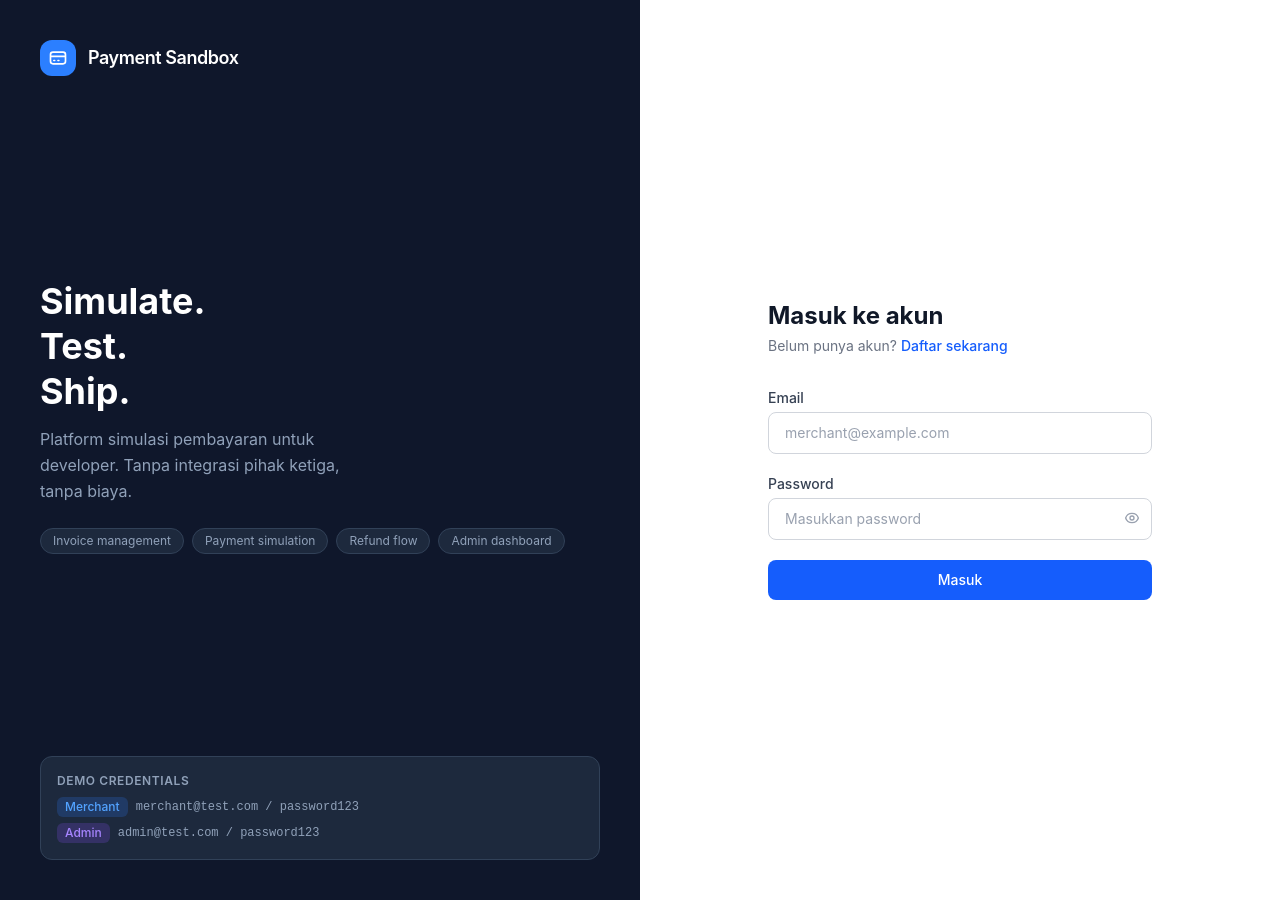
Test: LoginPage › shows password length error for short password
The image size is (1280, 900).
Type "123" into the password field labelled "Password".
click(960, 519); type("123")  # box [768,498,1152,540]
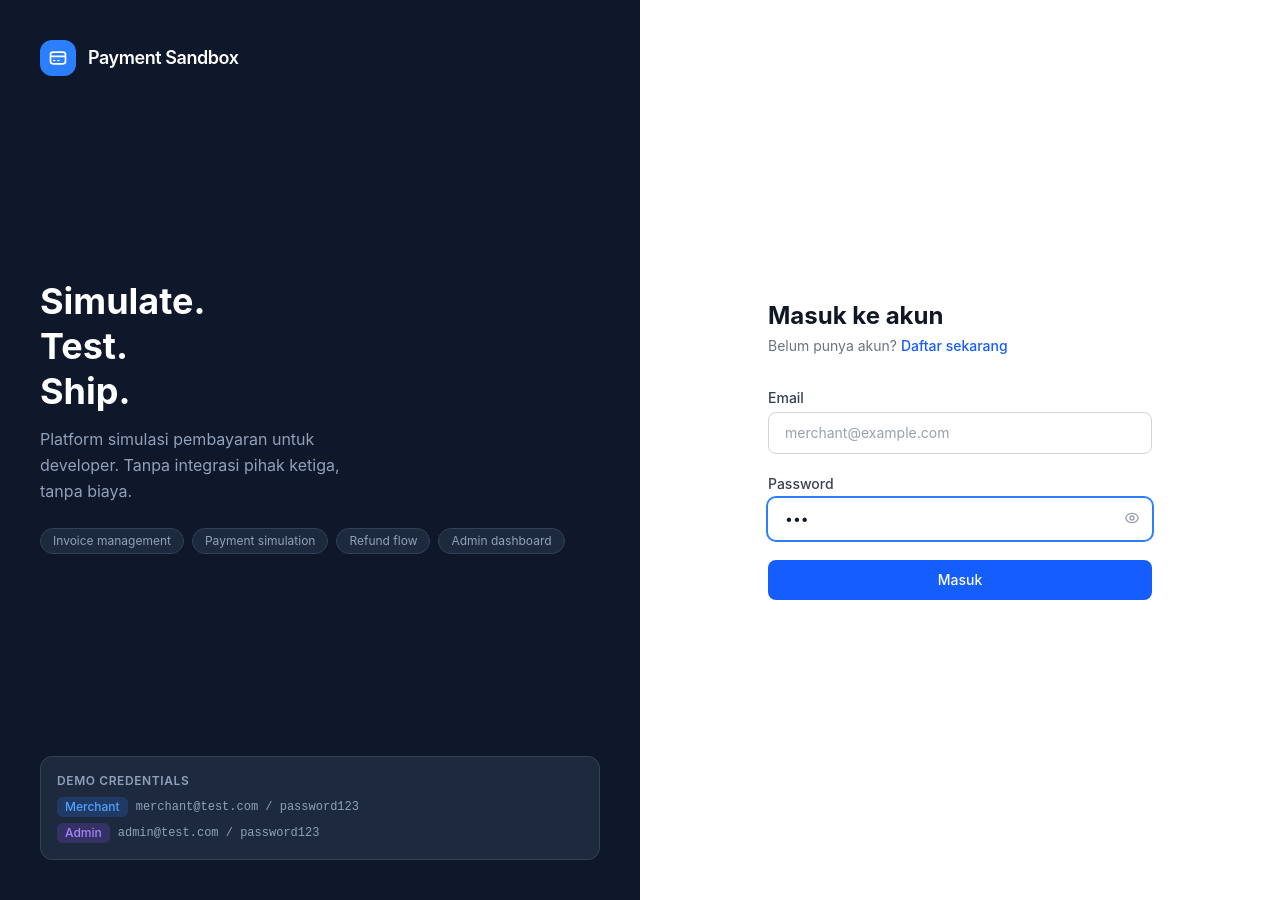
Click the button "Masuk".
click(960, 580)  # box [768,560,1152,600]
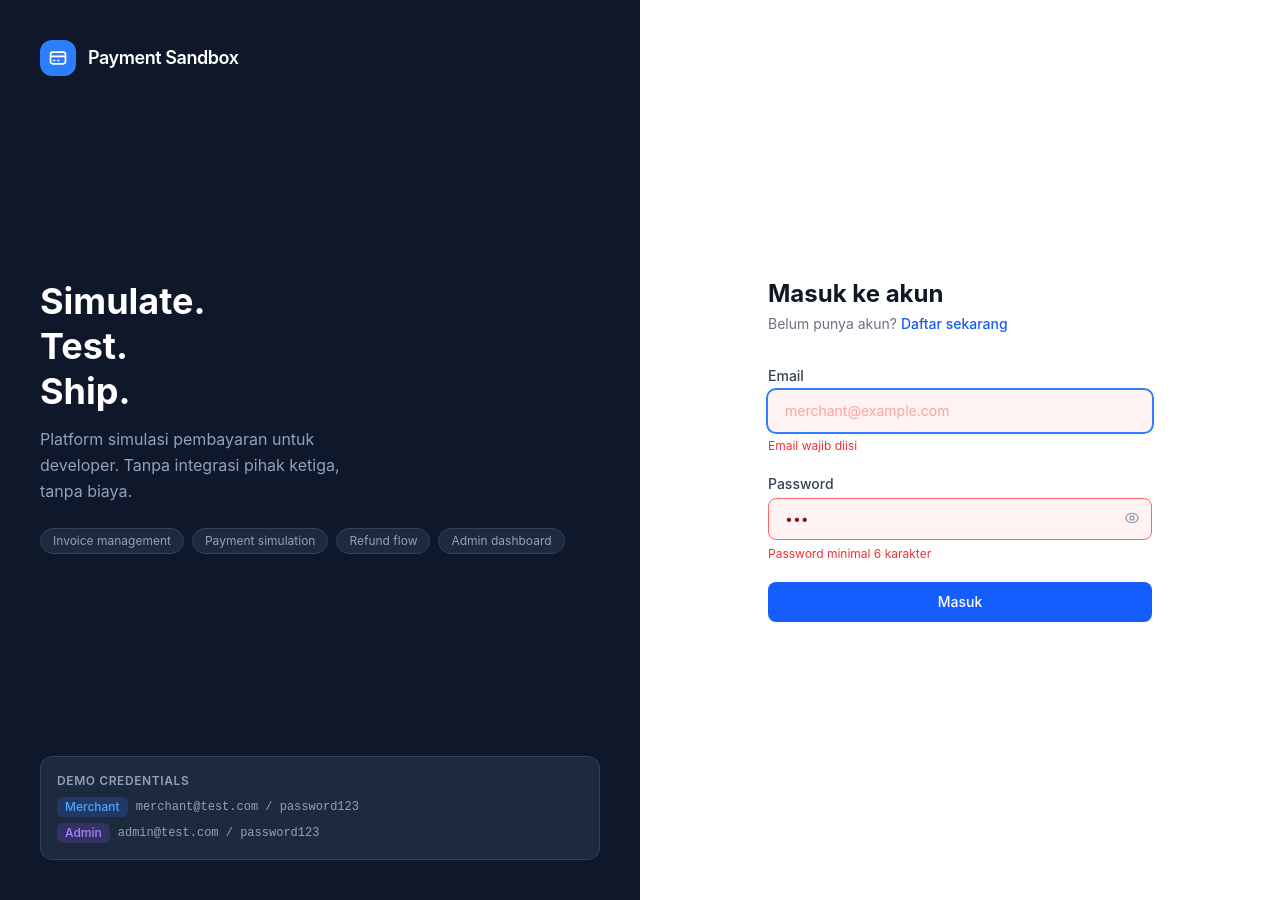
Result: the text "Password minimal 6 karakter" is shown at [768,546,931,561]
